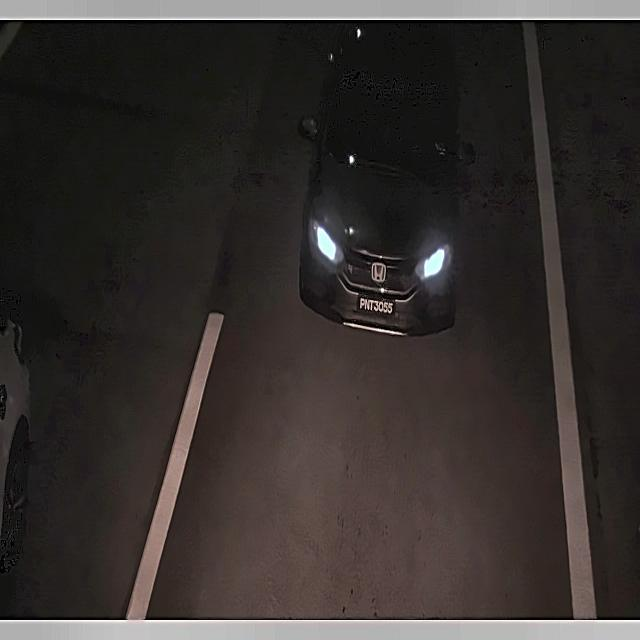car: (354, 289, 398, 323)
